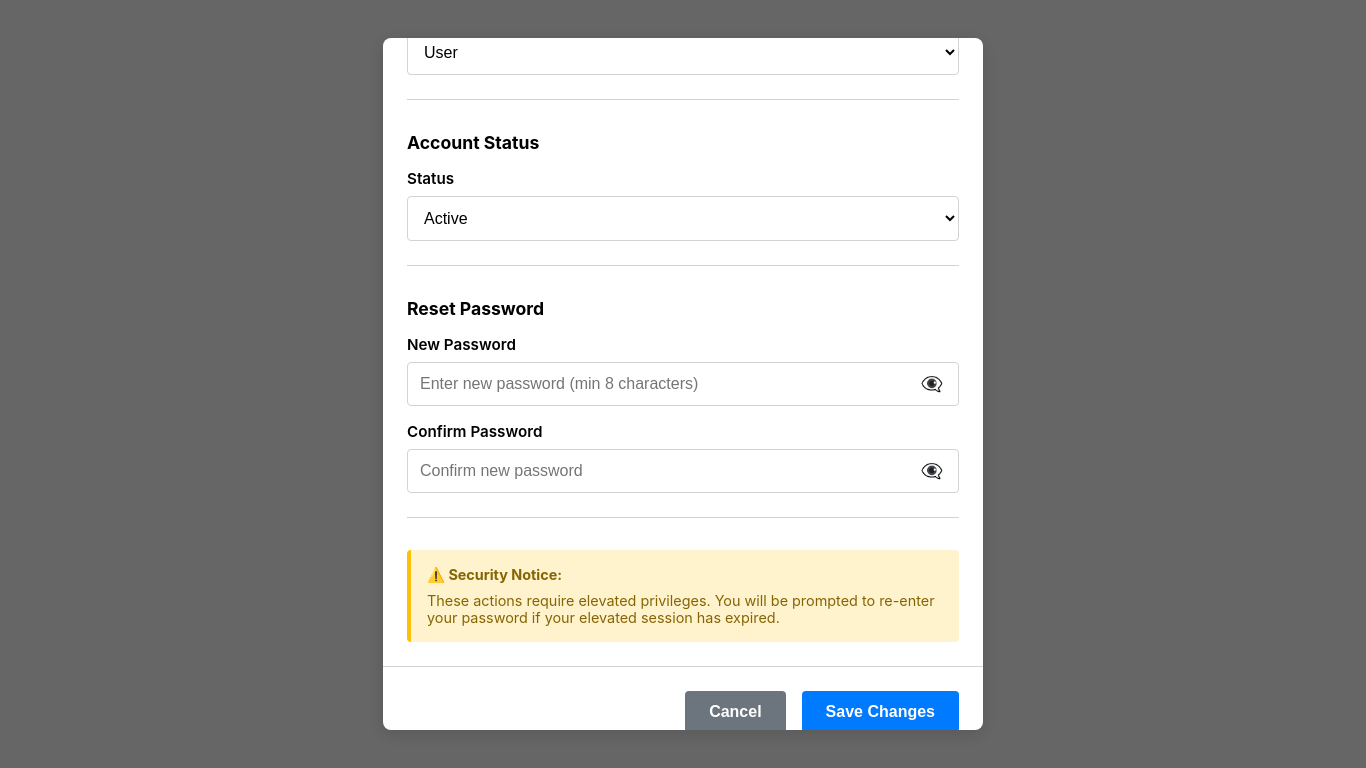
Scenario: UserEditModal › should validate password length
The width and height of the screenshot is (1366, 768).
(page scrolled)
Type "short" into the password field labelled "New Password" at (683, 384), box x1=407 y1=362 x2=959 y2=406
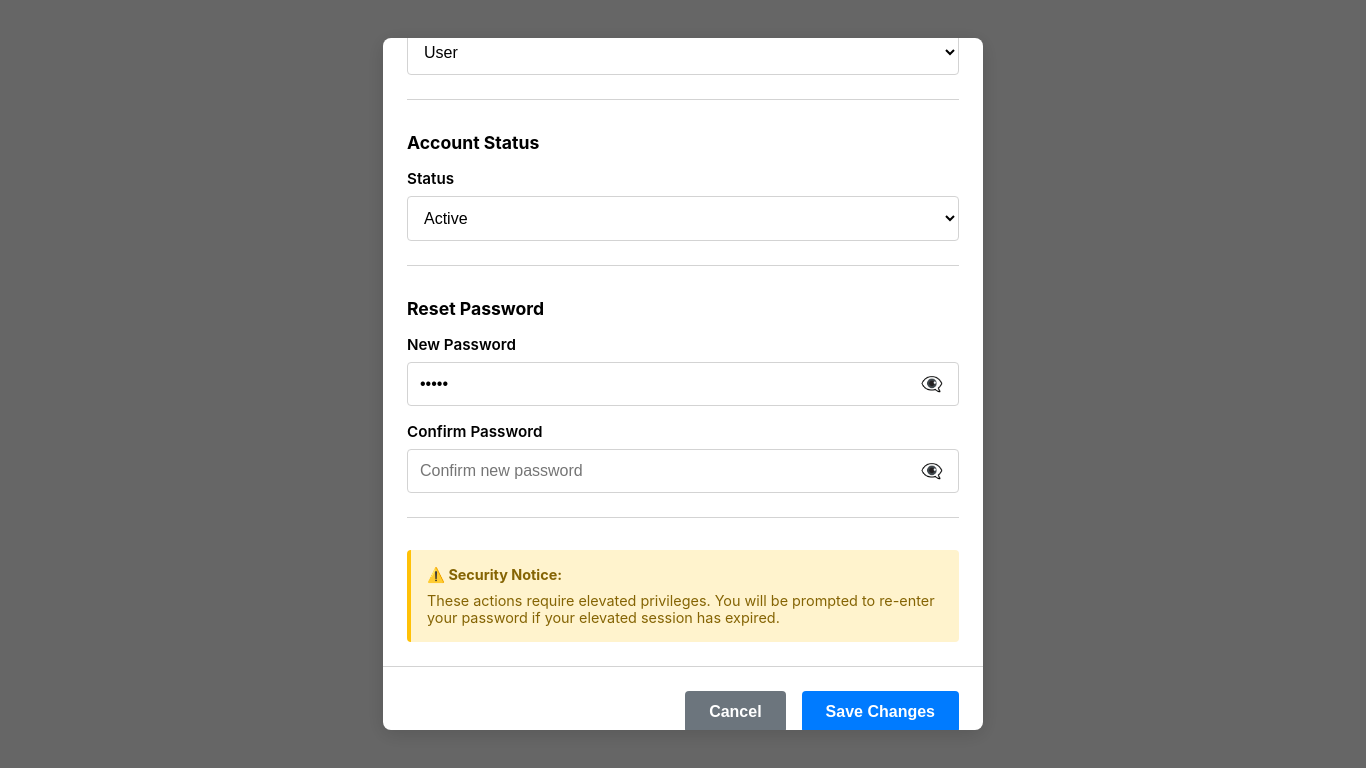
// Try to save - this should trigger validation
Click the button "Save Changes" at (880, 712), box x1=802 y1=691 x2=959 y2=733
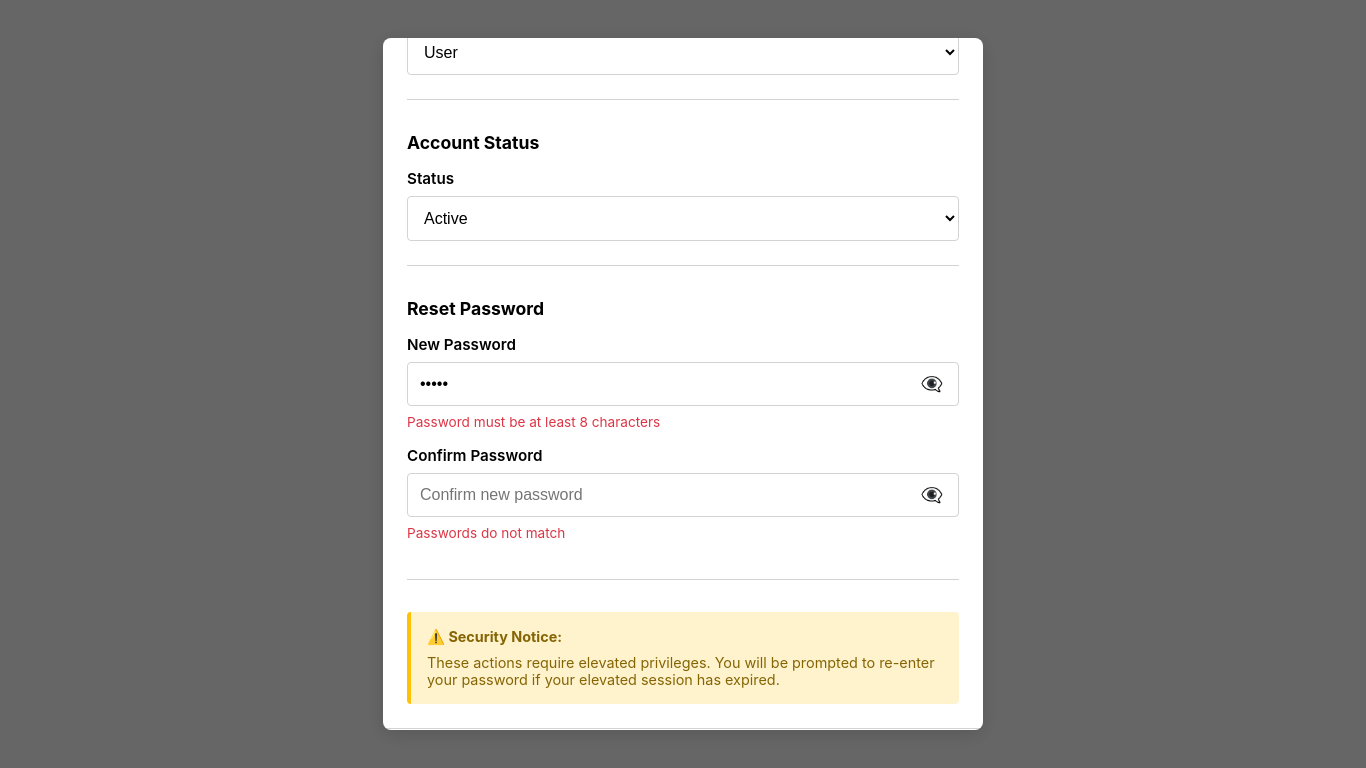
Expected: the text "Password must be at least 8 characters" is shown, x1=407 y1=414 x2=660 y2=430
